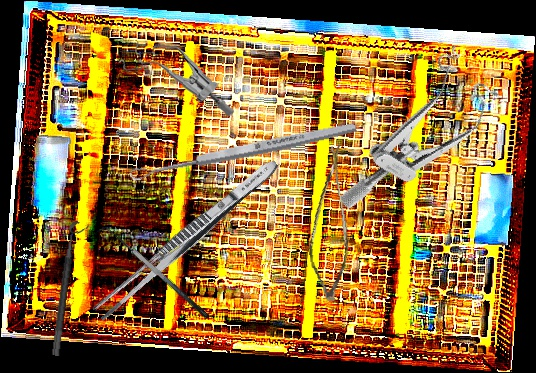Dressing Forceps: (91, 153, 283, 325)
Fixation Ring: (50, 220, 90, 358)
Micro Scissor: (292, 140, 365, 304)
Spatula Surgical: (95, 219, 211, 329)
Speculum: (337, 34, 510, 246), (113, 39, 239, 118)
Surgical Spoon: (128, 119, 359, 183)
